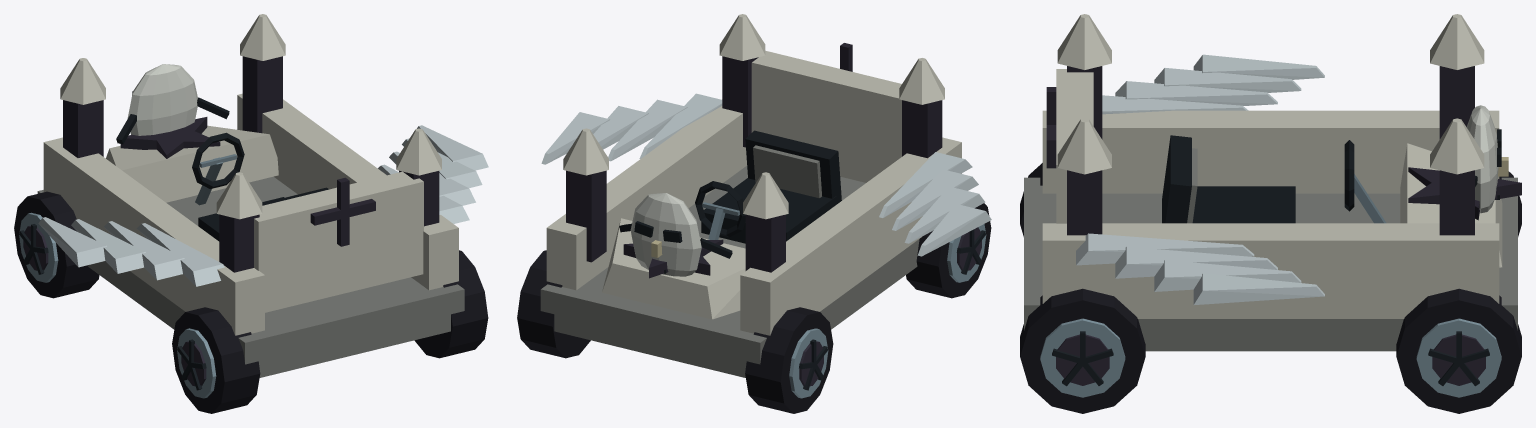
The model's file is kart.glb.
3 renders of one model, left to right at view 1: azimuth 30°, elevation 25°; view 2: azimuth 150°, elevation 25°; view 3: azimuth 270°, elevation 25°, orthographic. The views are drawn at different scales.
Visible parts, largest first — view 1: identity-reliquary-reliquary-arched-stone-chest, identity-reliquary-motif-wings-feather, wheel-rear-left, wheel-front-left, identity-reliquary-motif-mask, wheel-rear-right, identity-reliquary-driver-cockpit, identity-reliquary-motif-star; view 2: identity-reliquary-reliquary-arched-stone-chest, identity-reliquary-motif-wings-feather, identity-reliquary-driver-cockpit, wheel-front-left, identity-reliquary-motif-mask, wheel-rear-left, wheel-front-right, identity-reliquary-motif-star; view 3: identity-reliquary-reliquary-arched-stone-chest, identity-reliquary-motif-wings-feather, wheel-front-right, wheel-rear-right, identity-reliquary-driver-cockpit, identity-reliquary-motif-mask, identity-reliquary-motif-star.
Boxes of the visible parts, left/top/right/bottom form: identity-reliquary-reliquary-arched-stone-chest: left=37, top=14, right=464, bottom=377; identity-reliquary-motif-wings-feather: left=38, top=125, right=488, bottom=286; wheel-rear-left: left=172, top=307, right=260, bottom=413; wheel-front-left: left=14, top=191, right=99, bottom=298; identity-reliquary-motif-mask: left=116, top=64, right=229, bottom=144; wheel-rear-right: left=414, top=250, right=488, bottom=358; identity-reliquary-driver-cockpit: left=192, top=132, right=329, bottom=241; identity-reliquary-motif-star: left=120, top=117, right=220, bottom=158; identity-reliquary-reliquary-arched-stone-chest: left=540, top=14, right=961, bottom=377; identity-reliquary-motif-wings-feather: left=541, top=93, right=991, bottom=256; identity-reliquary-driver-cockpit: left=695, top=130, right=841, bottom=243; wheel-front-left: left=745, top=307, right=833, bottom=413; identity-reliquary-motif-mask: left=619, top=193, right=732, bottom=276; wheel-rear-left: left=906, top=203, right=991, bottom=298; wheel-front-right: left=517, top=250, right=590, bottom=358; identity-reliquary-motif-star: left=623, top=239, right=723, bottom=278; identity-reliquary-reliquary-arched-stone-chest: left=1024, top=14, right=1517, bottom=351; identity-reliquary-motif-wings-feather: left=1076, top=54, right=1324, bottom=304; wheel-front-right: left=1396, top=288, right=1521, bottom=413; wheel-rear-right: left=1020, top=288, right=1145, bottom=413; identity-reliquary-driver-cockpit: left=1162, top=135, right=1386, bottom=223; identity-reliquary-motif-mask: left=1466, top=105, right=1508, bottom=213; identity-reliquary-motif-star: left=1408, top=167, right=1521, bottom=220.
Size of the model in its own units: 2.88 by 1.51 by 2.56.
